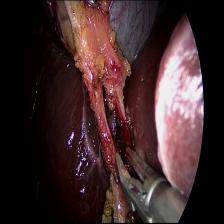Clipper: (113, 140, 172, 224)
